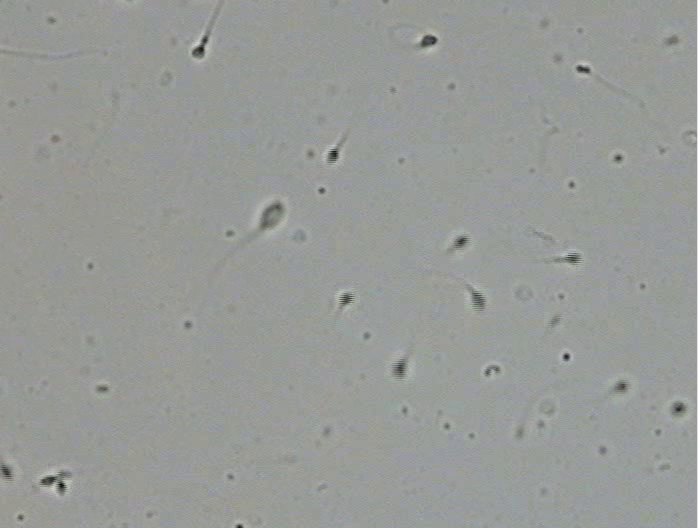S: (259, 201, 286, 229), (470, 291, 486, 312), (392, 360, 406, 378), (338, 292, 355, 306), (421, 34, 438, 48), (565, 252, 583, 265), (326, 148, 339, 165), (39, 475, 57, 487), (1, 464, 13, 481), (454, 236, 469, 249), (55, 481, 67, 496), (192, 46, 205, 59), (672, 402, 685, 415), (614, 381, 628, 393), (576, 65, 590, 74)
